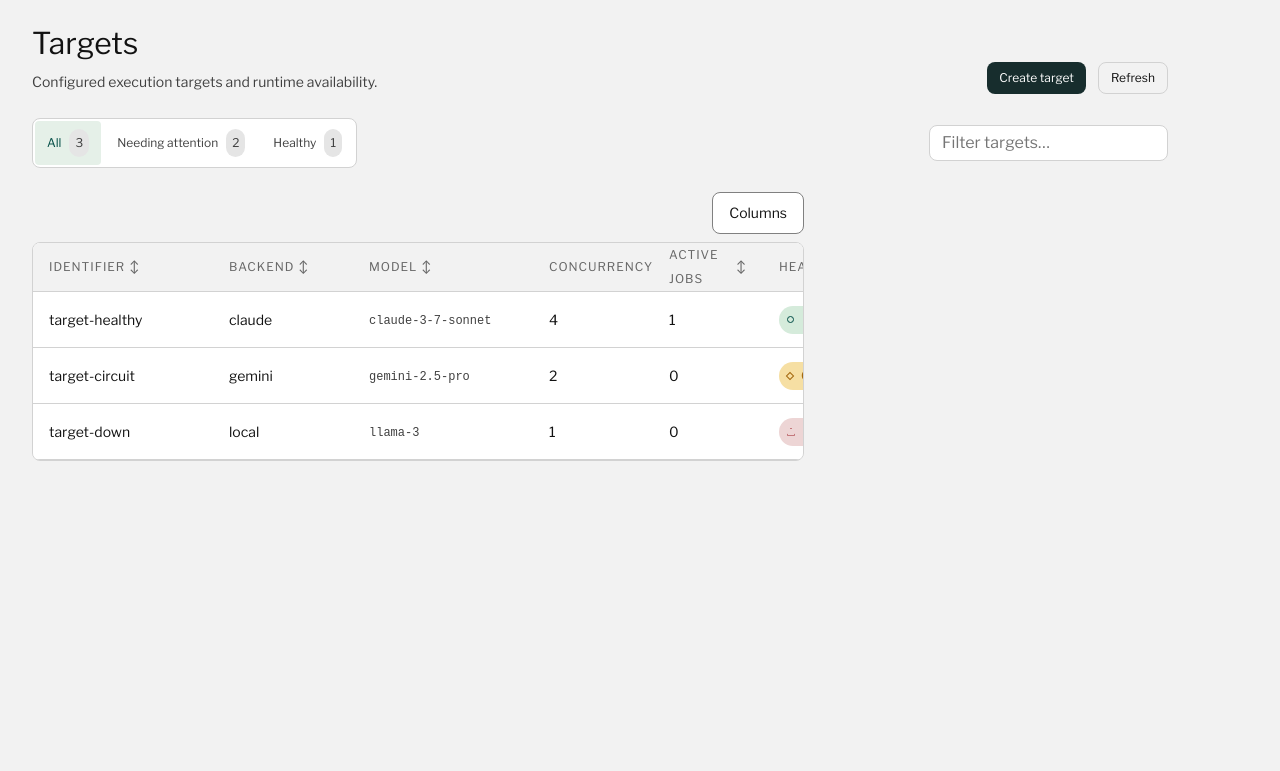
Scenario: Targets screen › opens docked inspector on row click with target details
Expected: the text "target-healthy" is shown, [49, 310, 142, 328]
Click the text "target-healthy" at (478, 320), box [33, 292, 923, 348]
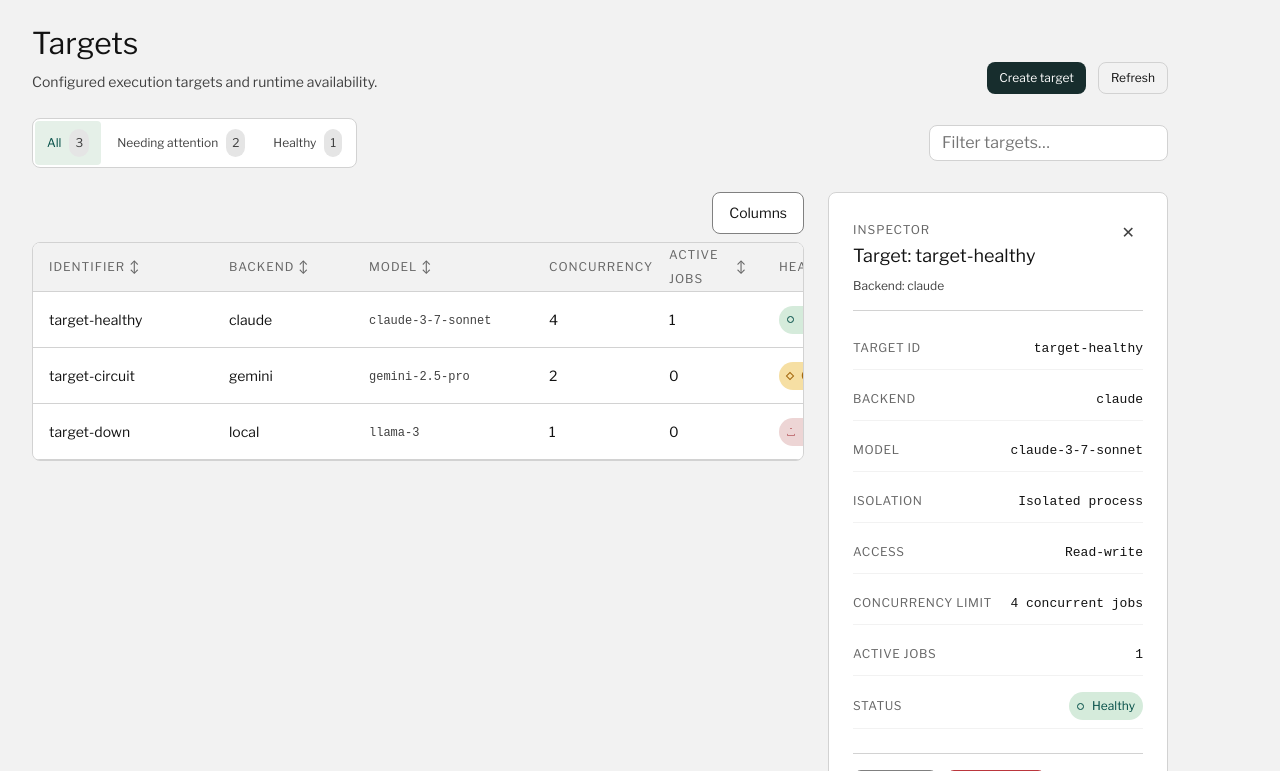
Expected: the text "4 concurrent jobs" is shown, [1010, 596, 1143, 611]
